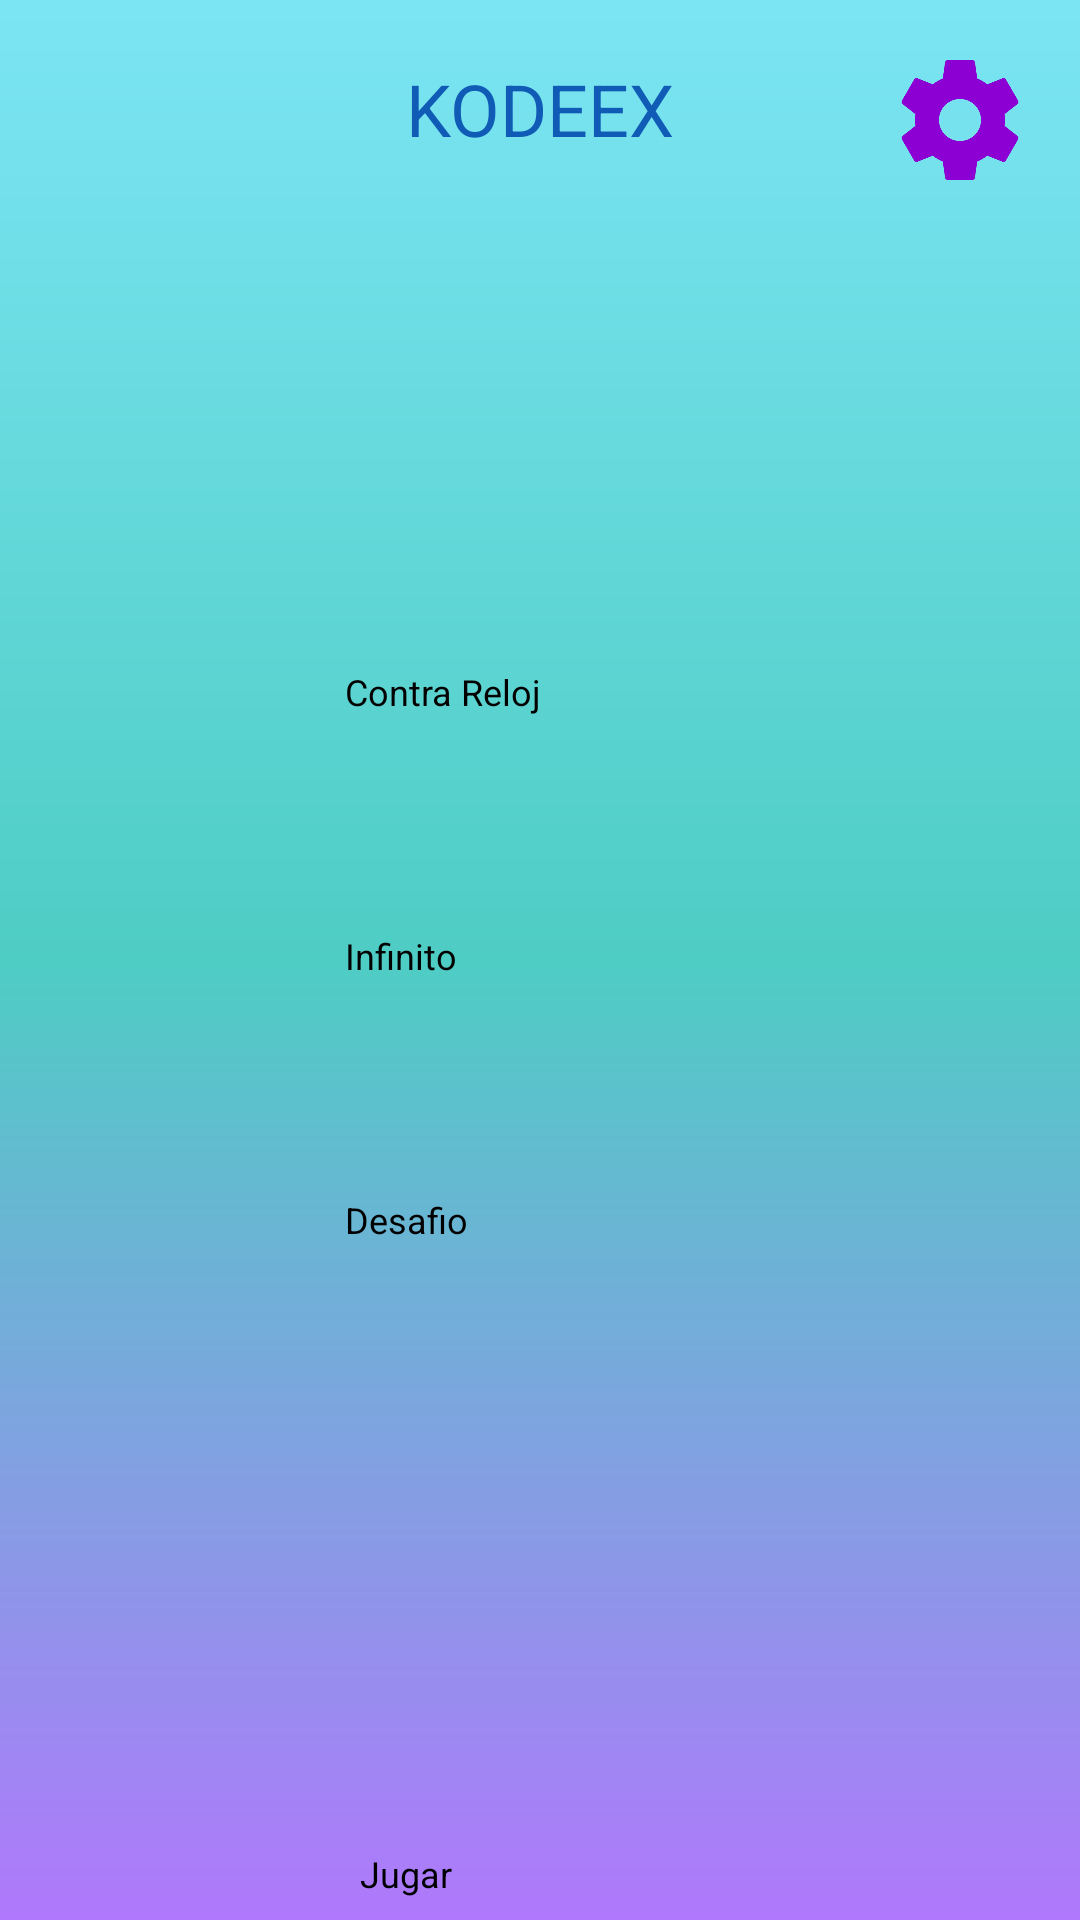

Named icons in this screenshot (1080*1920) and their bounding boxes, (x1, y1, x2, y2):
Botón de configuración: (901, 60, 1019, 180)
